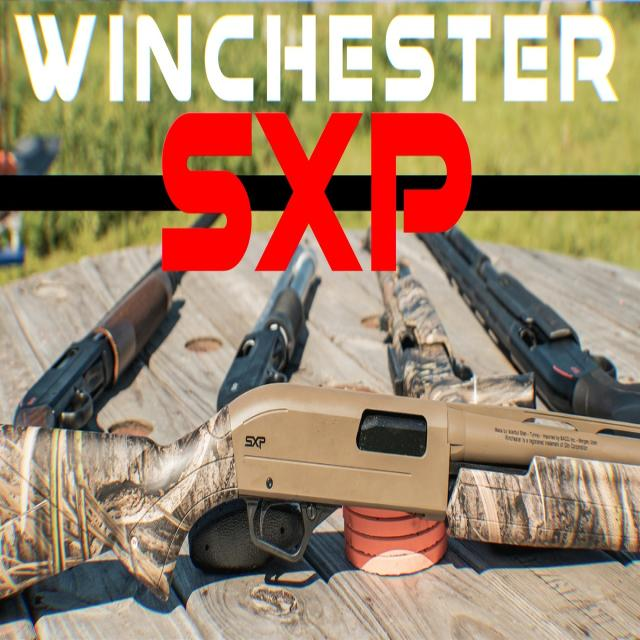ShotGun: (0, 385, 640, 600), (426, 230, 640, 424), (10, 265, 182, 435), (378, 261, 532, 407), (216, 234, 320, 412)
